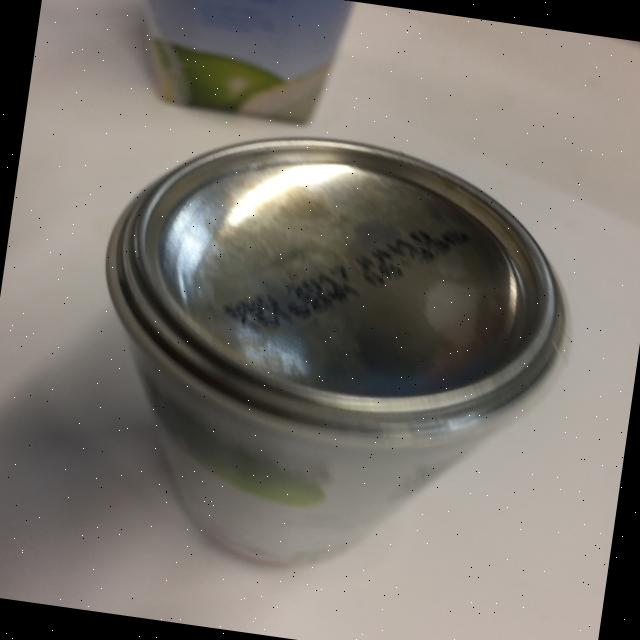metal: (64, 108, 588, 602)
